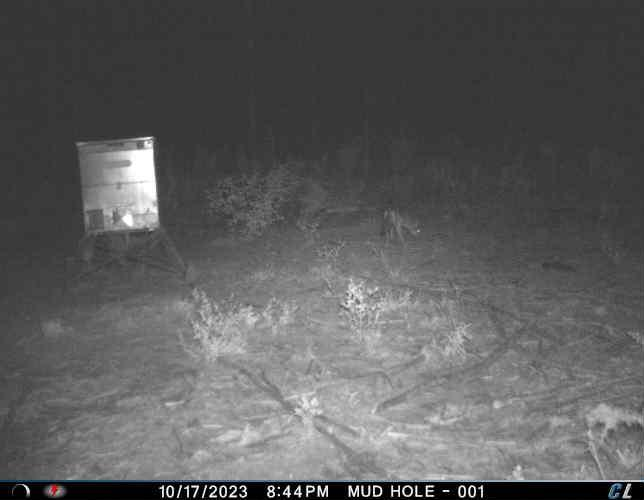Coyote: (380, 202, 425, 250)
